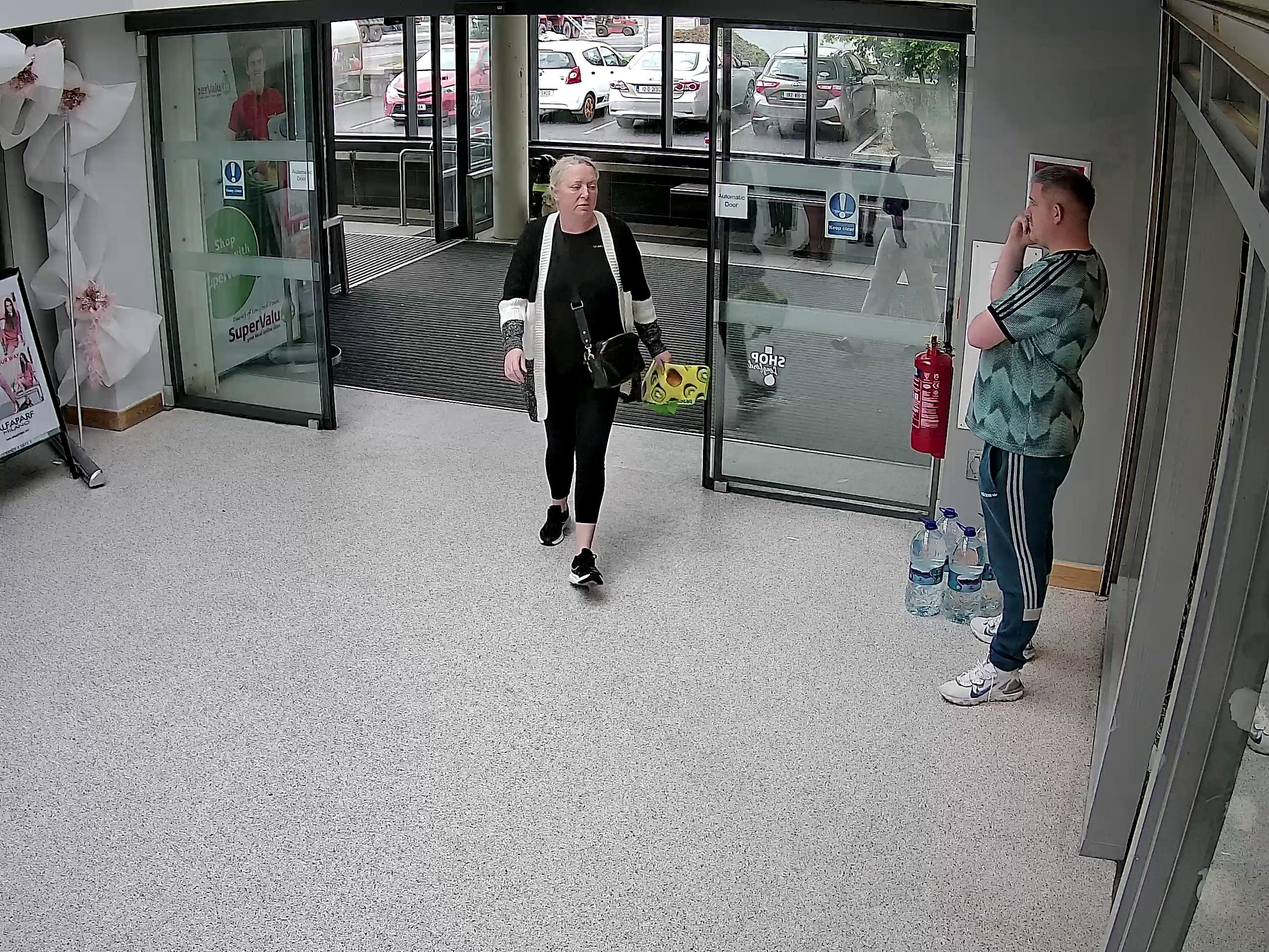backpack-or-handbag: (584, 328, 644, 391)
empty-shopping-bags: (640, 358, 711, 412)
person: (499, 156, 669, 583)
person-with-backpack-handbag-and-shopping-bag-s-: (500, 155, 712, 586)
